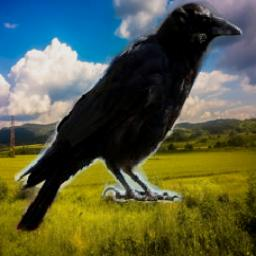Crow: (16, 0, 244, 232)
